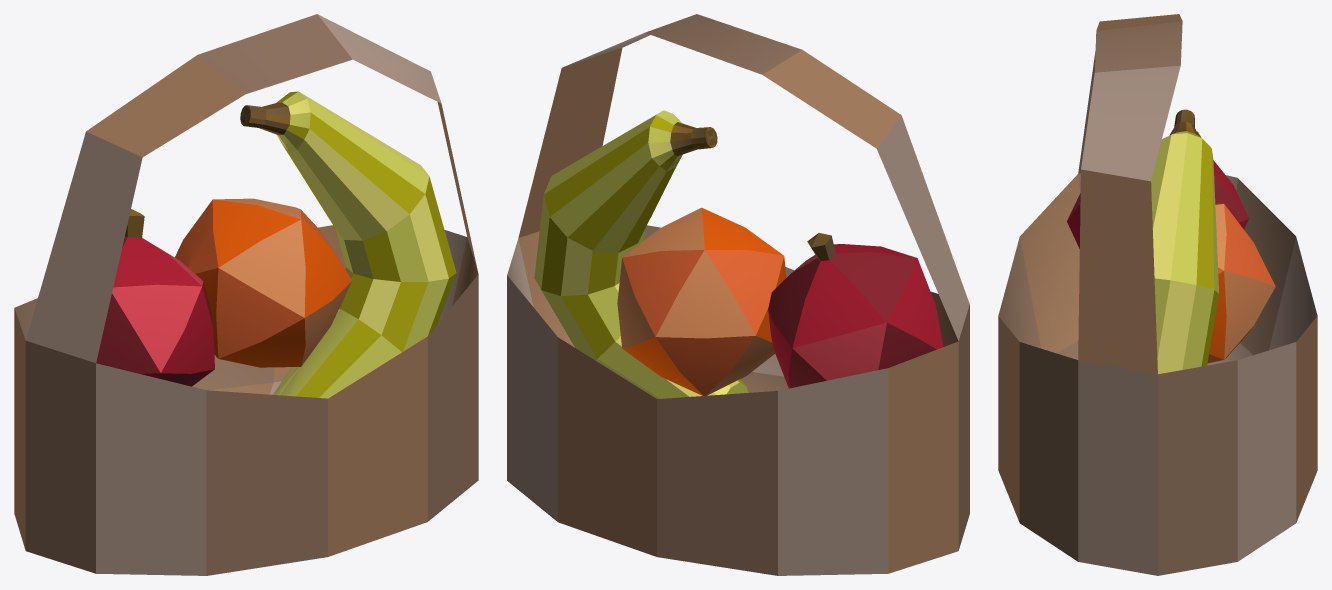
File: basket.fbx
3 views of the same model, side by side, from view 1: azimuth 30°, elevation 25°; view 2: azimuth 150°, elevation 25°; view 3: azimuth 270°, elevation 25° (orthographic). The views are drawn at different scales.
Parts seen in each view (by area): view 1: pPlatonic3; view 2: pPlatonic3; view 3: pPlatonic3.
Part boxes in pixels (x1,y1,x2,y2): pPlatonic3: [14, 14, 478, 575]; pPlatonic3: [507, 14, 969, 575]; pPlatonic3: [998, 14, 1317, 575].
Size of the model in its own units: 3.12 by 3.07 by 2.
